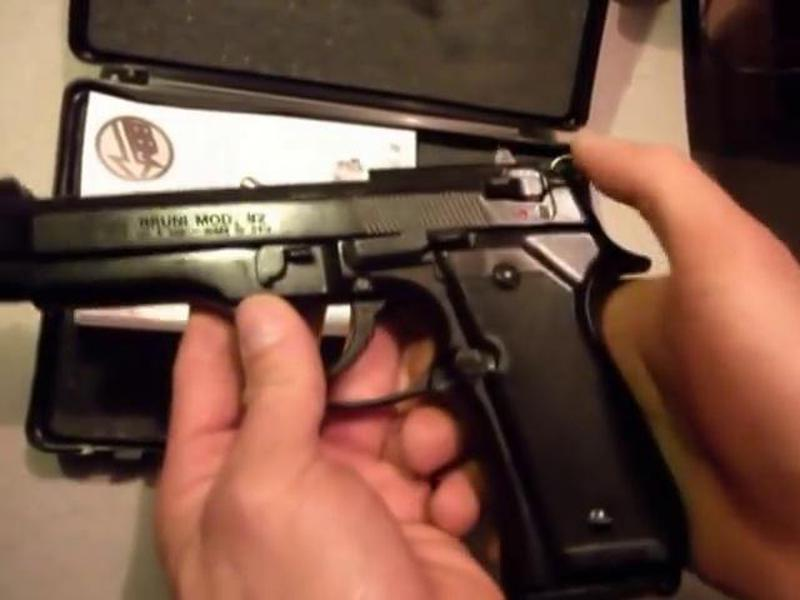Pistola: (20, 153, 678, 574)
